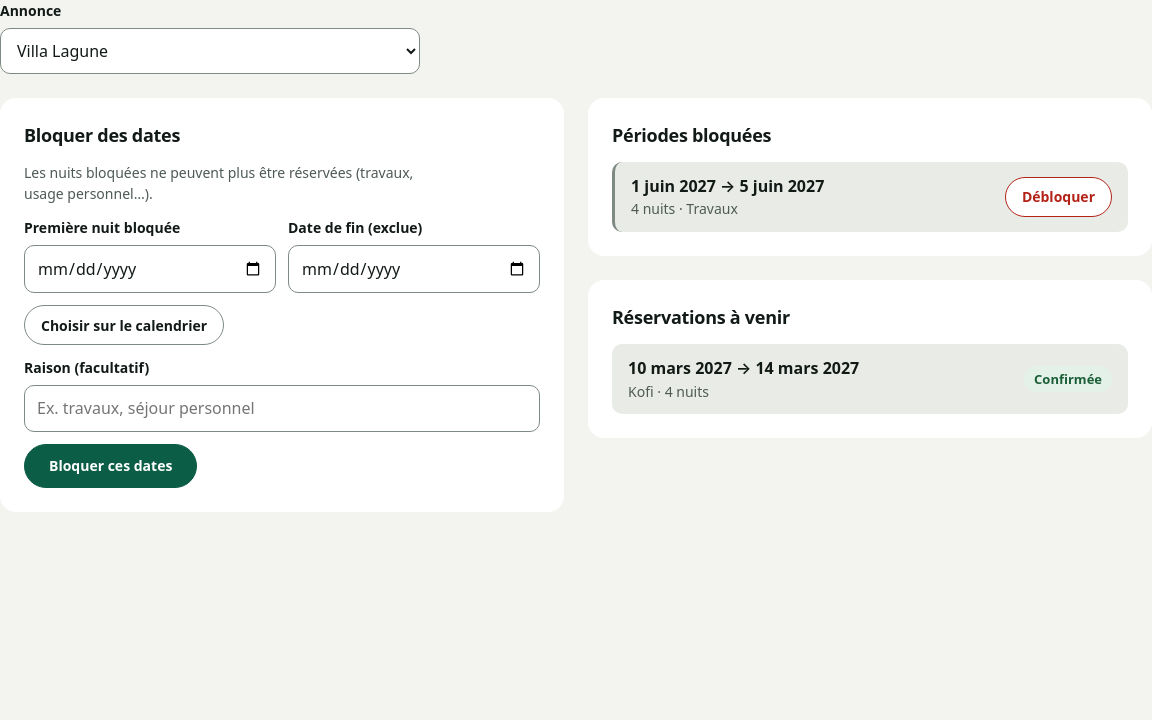
Test: AvailabilityManager › the calendar picker fills the date fields
This screenshot has width=1152, height=720.
Expected: the text "4 nuits · Travaux" is shown, [631, 199, 738, 218]
Click the button "Choisir sur le calendrier": (124, 325) [24, 305, 224, 345]
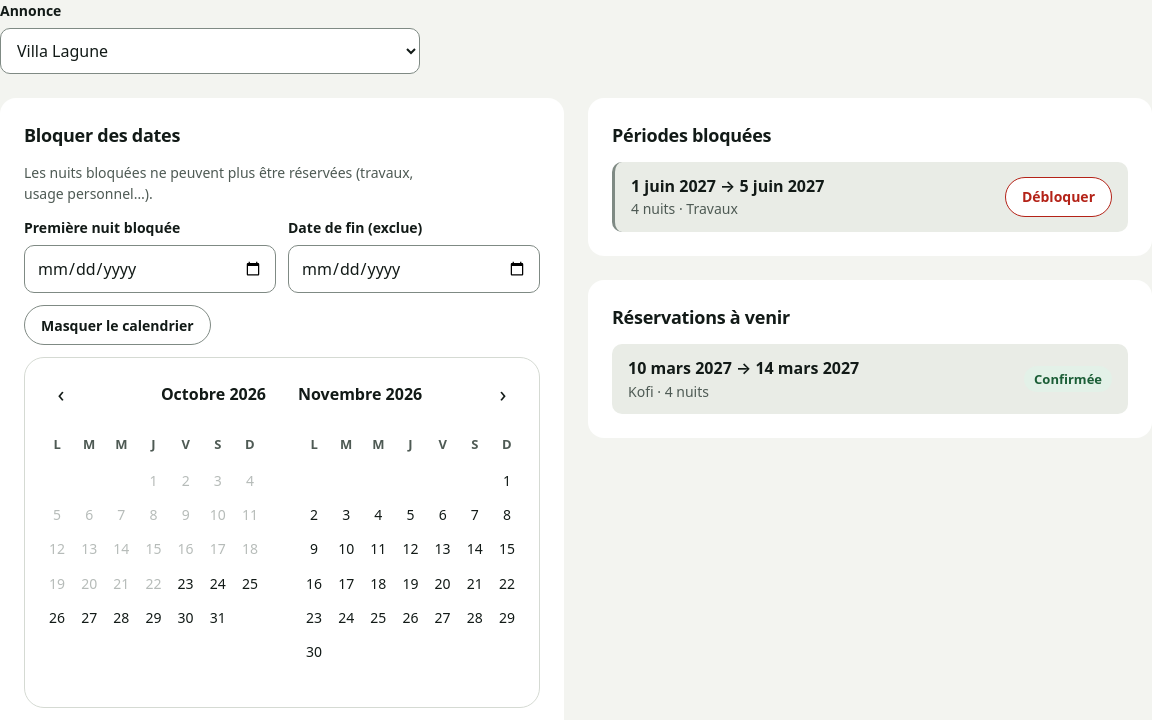
Expected: the dialog is shown, [24, 357, 540, 708]
Expected: the button "Masquer le calendrier" is expanded, [24, 305, 211, 345]
